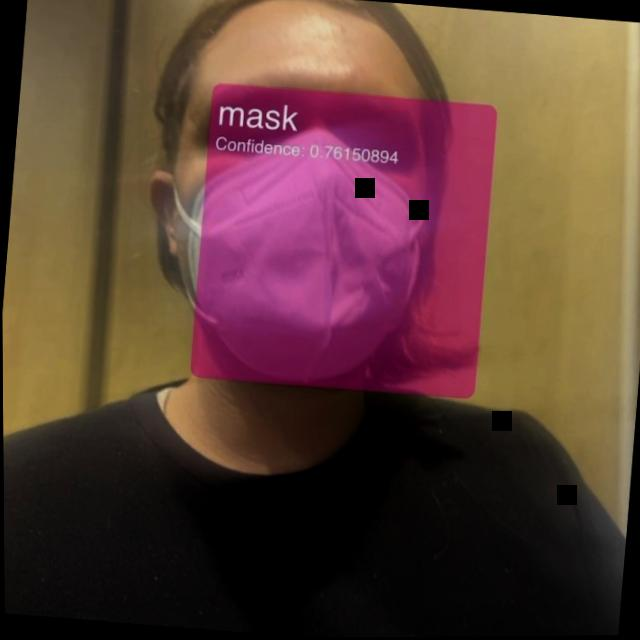Mask: (113, 0, 528, 436)
